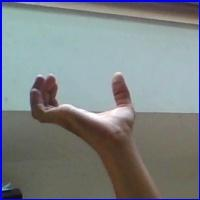B: (24, 68, 142, 152)
